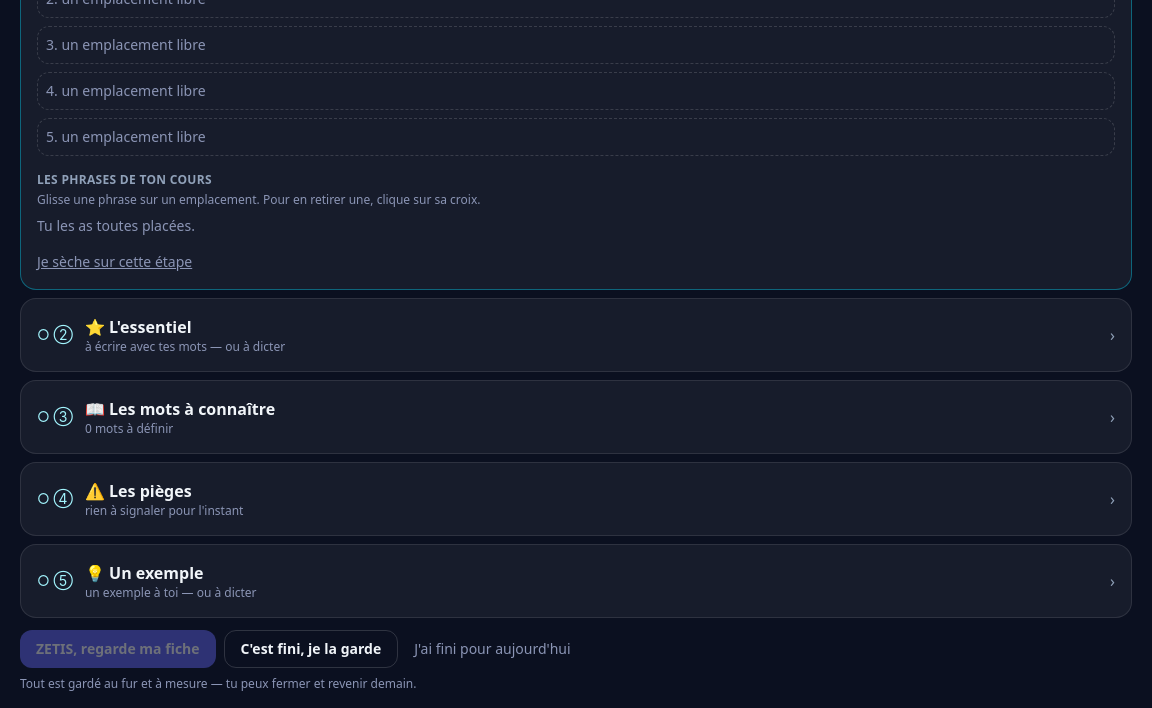
Test: AtelierPage — le compteur ne sous-compte pas › 🔴 compte les PIÈGES comme une étape remplie
This screenshot has width=1152, height=708.
(page scrolled)
What coordinates should you click on to do the following:
click the text "⚠️ Les pièges"
I would click on:
 (138, 491)
Its box is [85, 480, 192, 502].
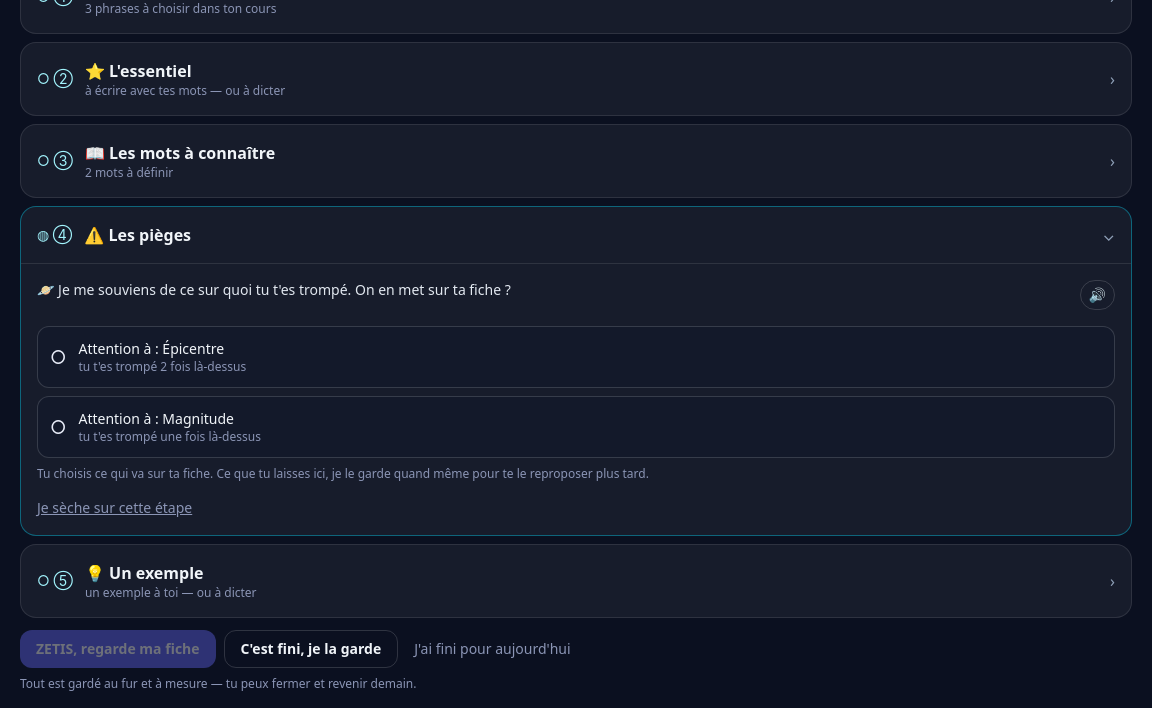
What coordinates should you click on to do the following:
click the text "Attention à : Épicentre"
I would click on:
 (151, 348)
Its box is [78, 339, 224, 358].
(page scrolled)
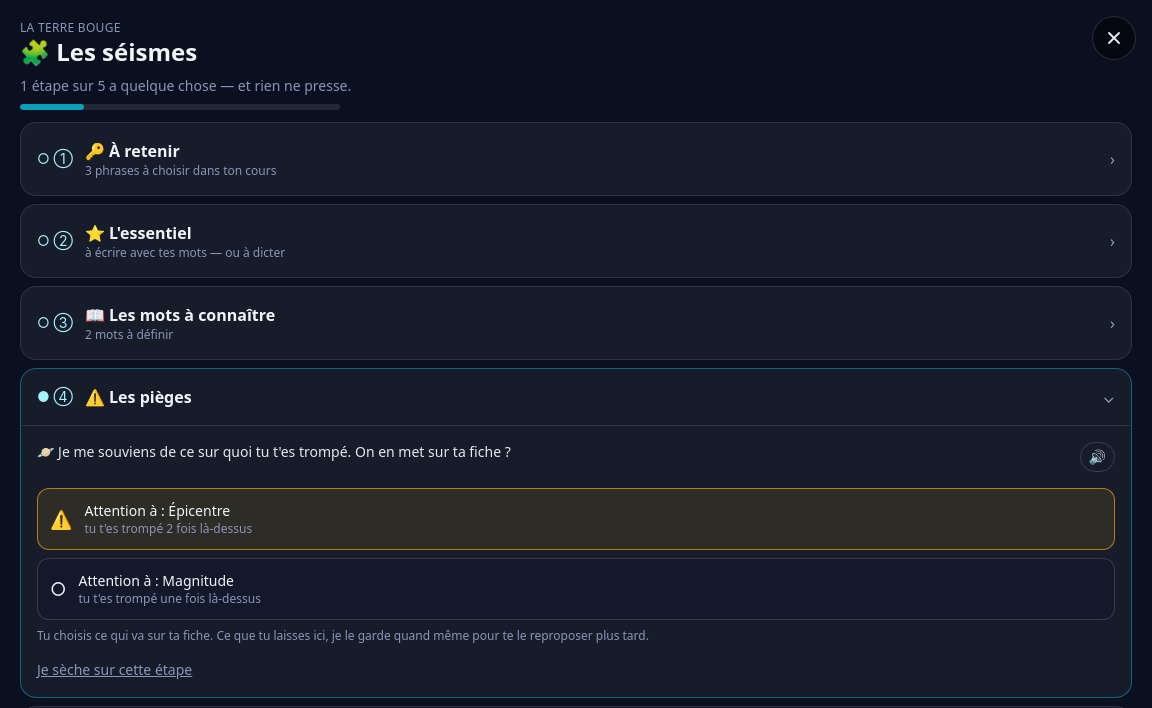
Expected: the text "1 étape sur 5 a quelque chose — et rien ne presse." is shown, [20, 76, 351, 95]
